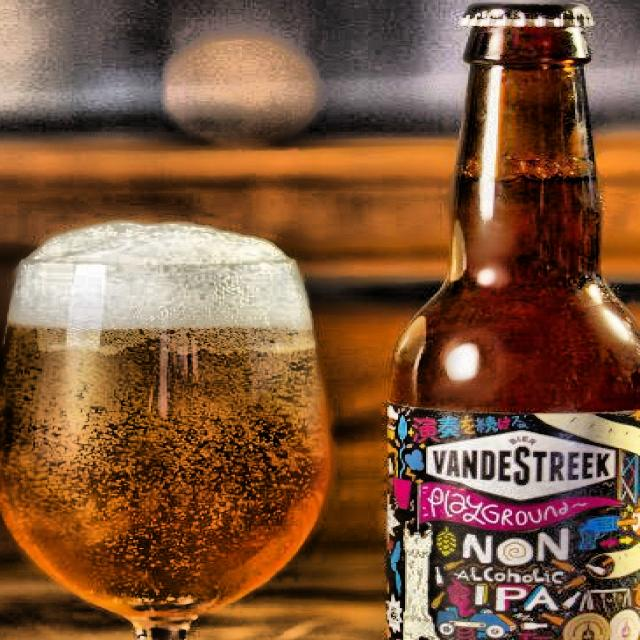glass: (386, 37, 640, 640), (0, 259, 330, 640)
metal: (463, 0, 596, 31)
